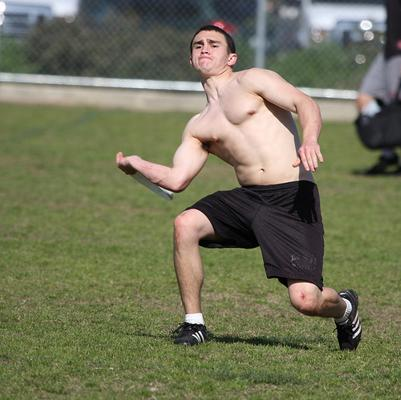person: (115, 26, 363, 352)
